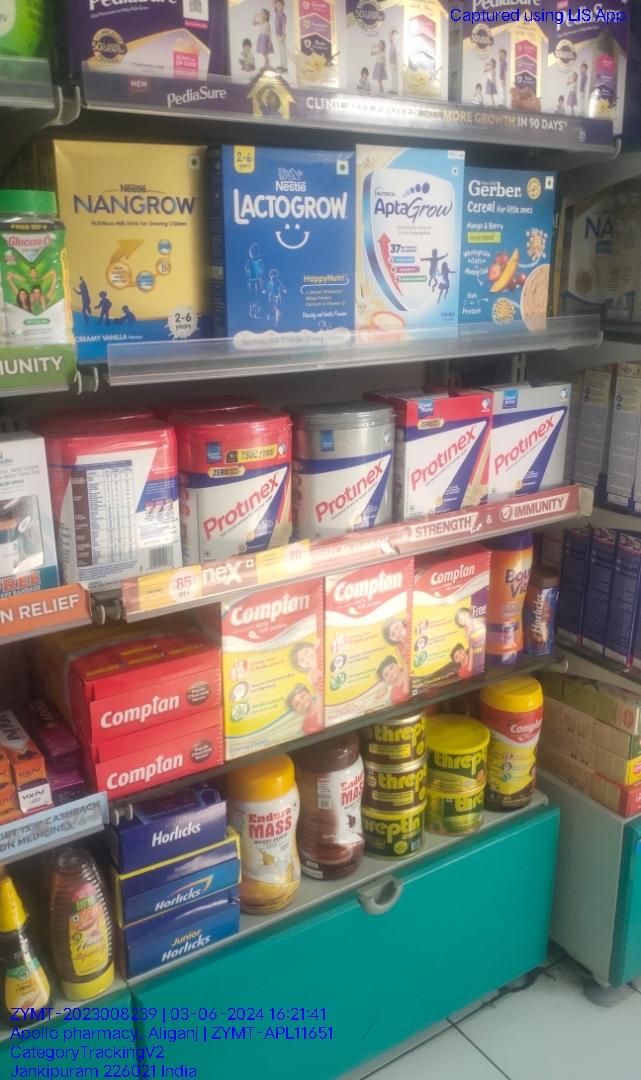BOURN_VITA_500_G_JAR: (490, 540, 529, 669)
COMPLAN_CHOCOLATE_200_GMS_PACK: (413, 572, 487, 683)
COMPLAN_KESAR_BADAM_500_GMS_PACK: (226, 600, 323, 741), (328, 576, 412, 711)
HORLICK_CHOCOLATE_200_G_JAR: (532, 578, 553, 654)
PROTINEX_VANILLA_400_G_JAR: (187, 426, 292, 545), (298, 414, 395, 526)
